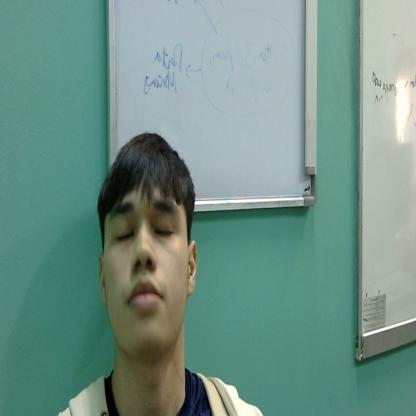Closed-Eyes: (103, 198, 188, 255)
